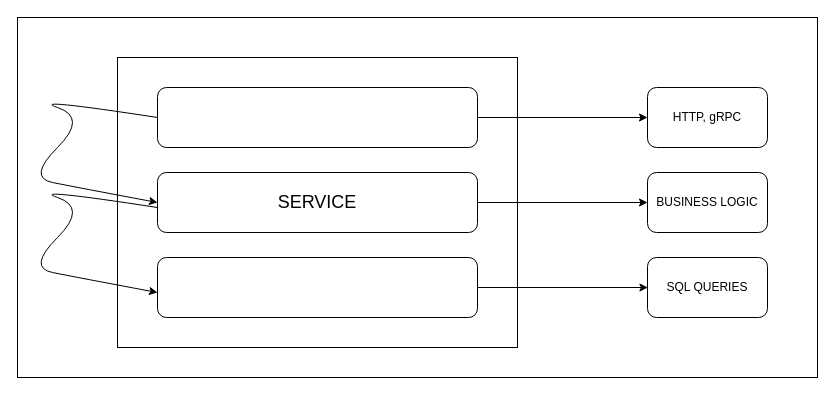
The diagram is 835 pixels wide and 395 high, and some of its shapes have lost their labels. The shapes that lost their labels are listed below. From the top down, each one's centre as x and y in pixels, then its label:
At (x=317, y=117): "TRANSPORT".
At (x=317, y=287): "REPOSITORY".
